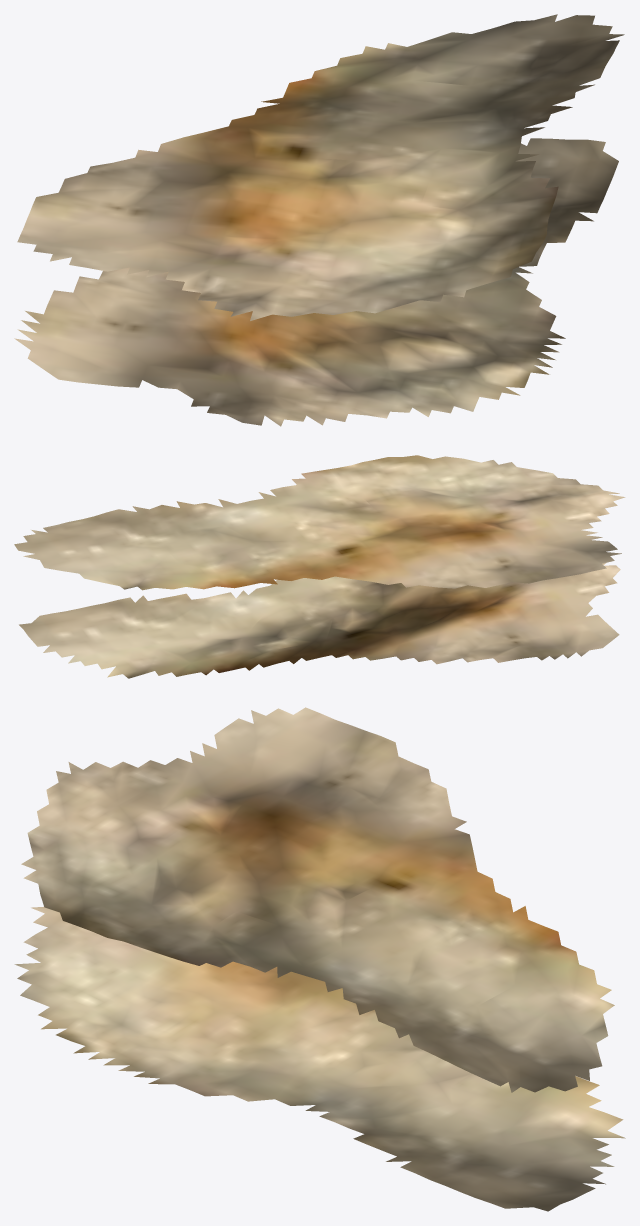
Rendered from beef-1.glb.
The picture shows the model from 3 angles, top to bottom: view 1: azimuth 30°, elevation 25°; view 2: azimuth 150°, elevation 25°; view 3: azimuth 270°, elevation 25°; orthographic projection. The views are drawn at different scales.
Parts seen in each view (by area): view 1: fetta di pollo_Default OBJ_0; view 2: fetta di pollo_Default OBJ_0; view 3: fetta di pollo_Default OBJ_0.
Boxes of the visible parts, box(x1,y1,x2,y2) form: fetta di pollo_Default OBJ_0: box(14, 14, 624, 426); fetta di pollo_Default OBJ_0: box(14, 455, 625, 678); fetta di pollo_Default OBJ_0: box(14, 707, 625, 1211).
Bounding box in the file's own units: 0.04 × 0.00909 × 0.0301.
1 material, 1 textured.
